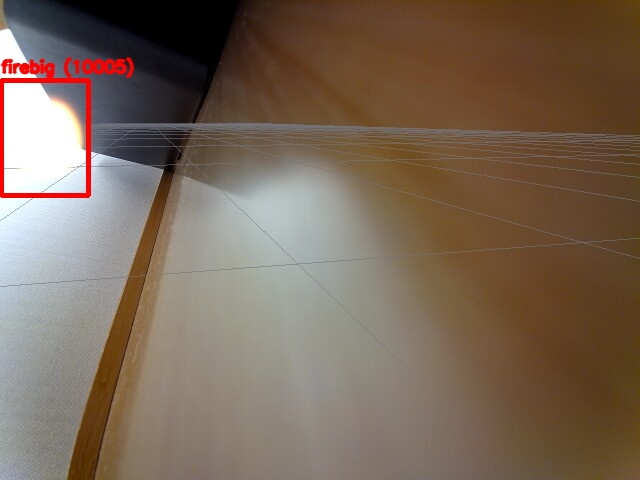firebig: (1, 80, 88, 195)
